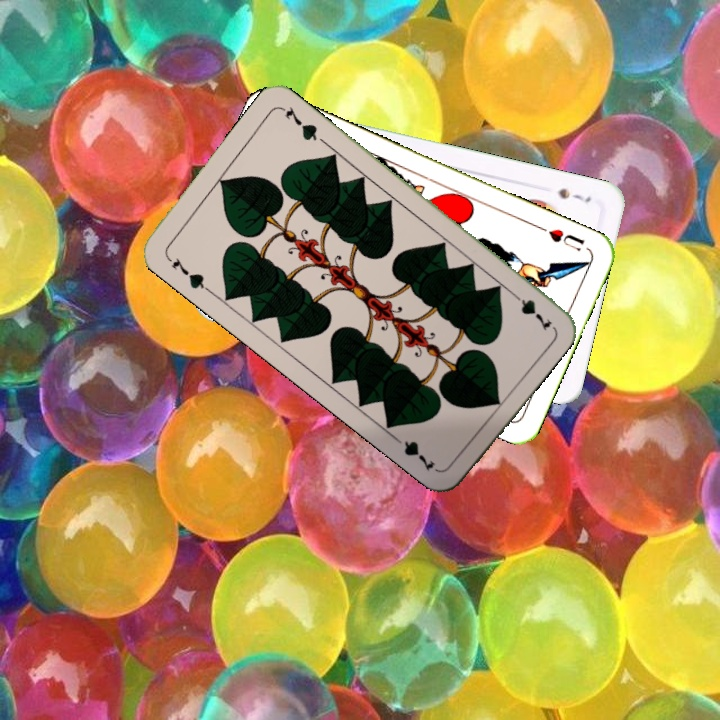G7: (505, 286, 555, 333), (162, 252, 212, 294)
HU: (535, 222, 587, 254)
S7: (554, 184, 594, 205)
